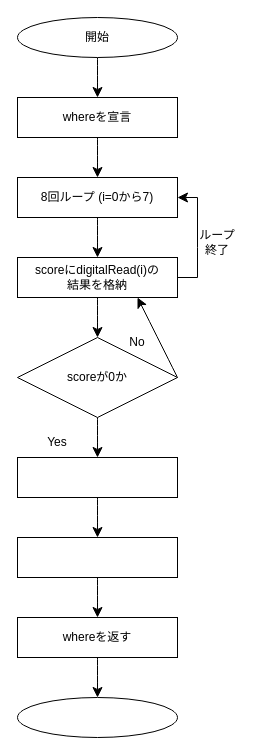
Image size: 265x755. Some labels were removed from this diagram. Here are the shapes that lost their labels. From the top down, the centre of each, then its label:
At point (97, 477): "whereにiを格納".
At point (97, 557): "1000ms待機".
At point (97, 717): "終了".
